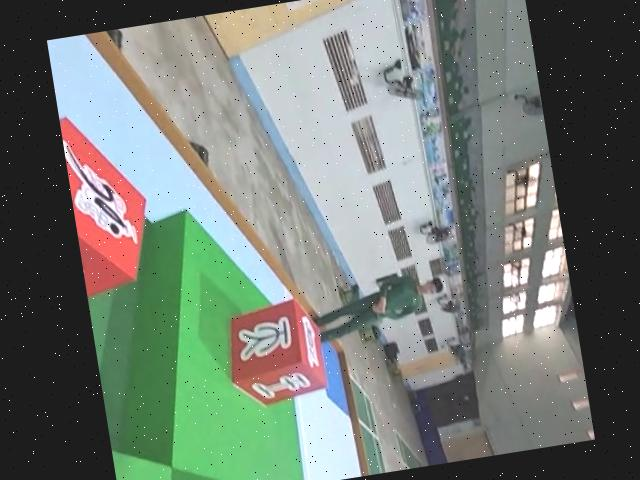R1: (58, 107, 162, 306)
R2 Fake: (220, 295, 330, 409)
